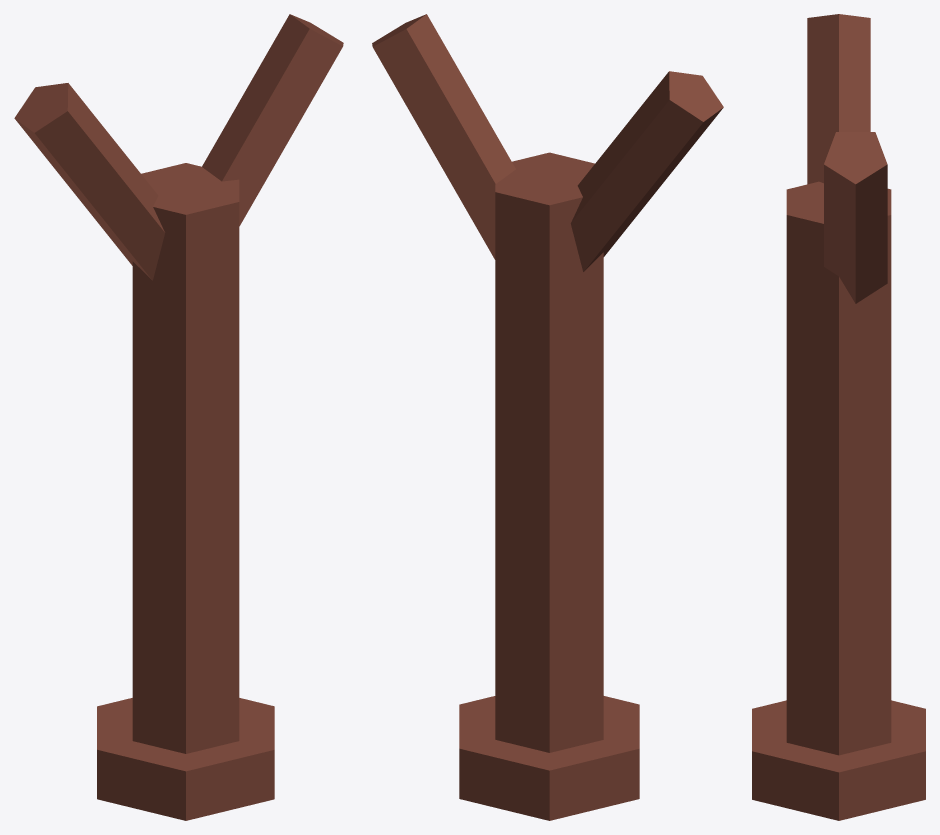
The model's file is tree.glb.
3 renders of one model, left to right at view 1: azimuth 30°, elevation 25°; view 2: azimuth 150°, elevation 25°; view 3: azimuth 270°, elevation 25°, orthographic. The views are drawn at different scales.
Visible parts, largest first — view 1: Trunk; view 2: Trunk; view 3: Trunk.
Part boxes in pixels (x1,y1,x2,y2): Trunk: [14, 14, 343, 820]; Trunk: [372, 14, 723, 820]; Trunk: [752, 14, 925, 820].
Bounding box in the file's own units: 1.11 × 2.34 × 0.5196.
